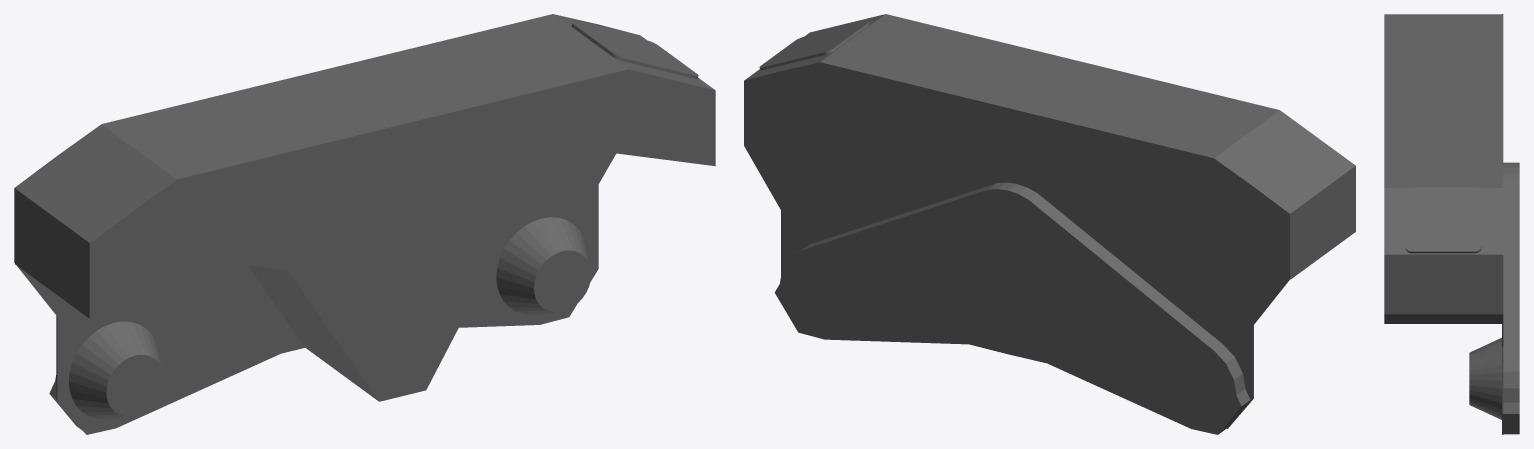
File: WHog_Fender_Left_corr_origen.gltf
The picture shows the model from 3 angles, left to right: view 1: azimuth 30°, elevation 25°; view 2: azimuth 150°, elevation 25°; view 3: azimuth 270°, elevation 25°; orthographic projection. The views are drawn at different scales.
Parts seen in each view (by area): view 1: WHog_Fender_Left; view 2: WHog_Fender_Left; view 3: WHog_Fender_Left.
Part boxes in pixels (x1,y1,x2,y2): WHog_Fender_Left: [14, 14, 715, 434]; WHog_Fender_Left: [744, 14, 1355, 434]; WHog_Fender_Left: [1384, 14, 1519, 434].
Bounding box in the file's own units: 1.34 × 0.6315 × 0.3178.
Materials: 1 (1 with a texture image).
